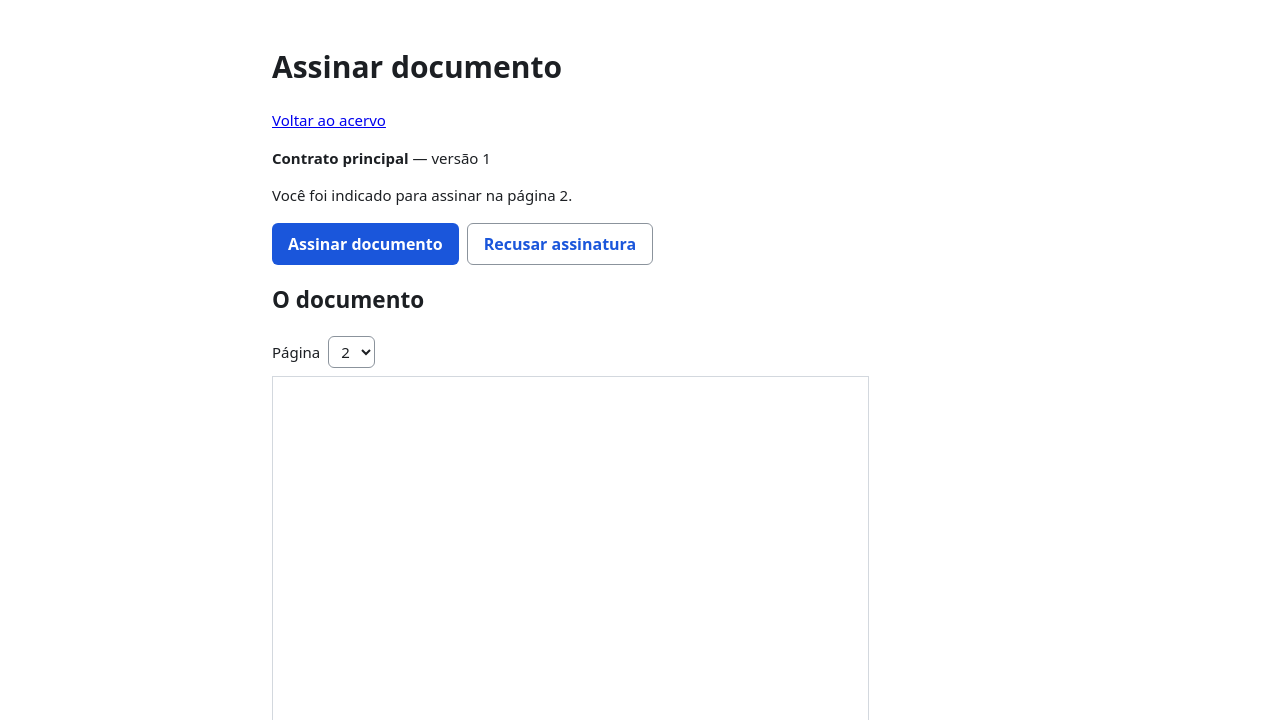
Scenario: assinar › desabilita o confirmar durante o envio, impedindo assinatura duplicada
Click the button "Assinar documento" at (365, 244), box [272,223,459,265]
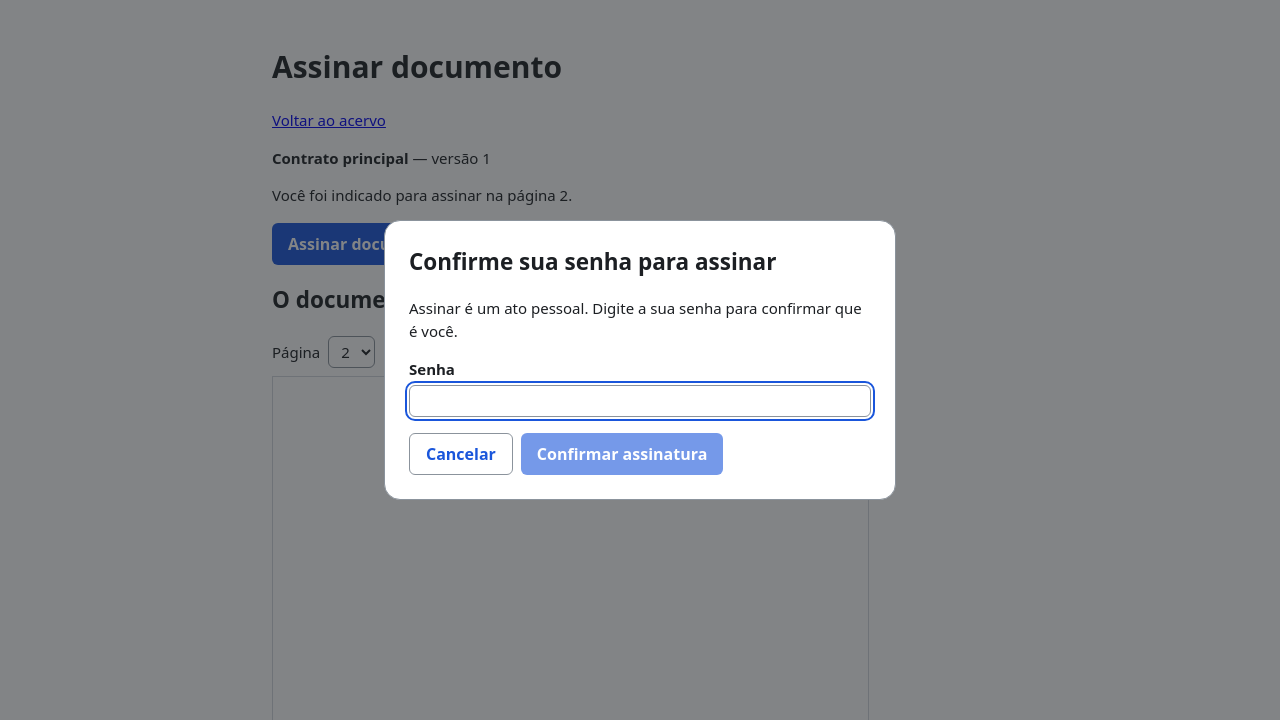
Type "s3cret-pass" into the password field labelled "Senha" at (640, 401), box [409,385,871,417]
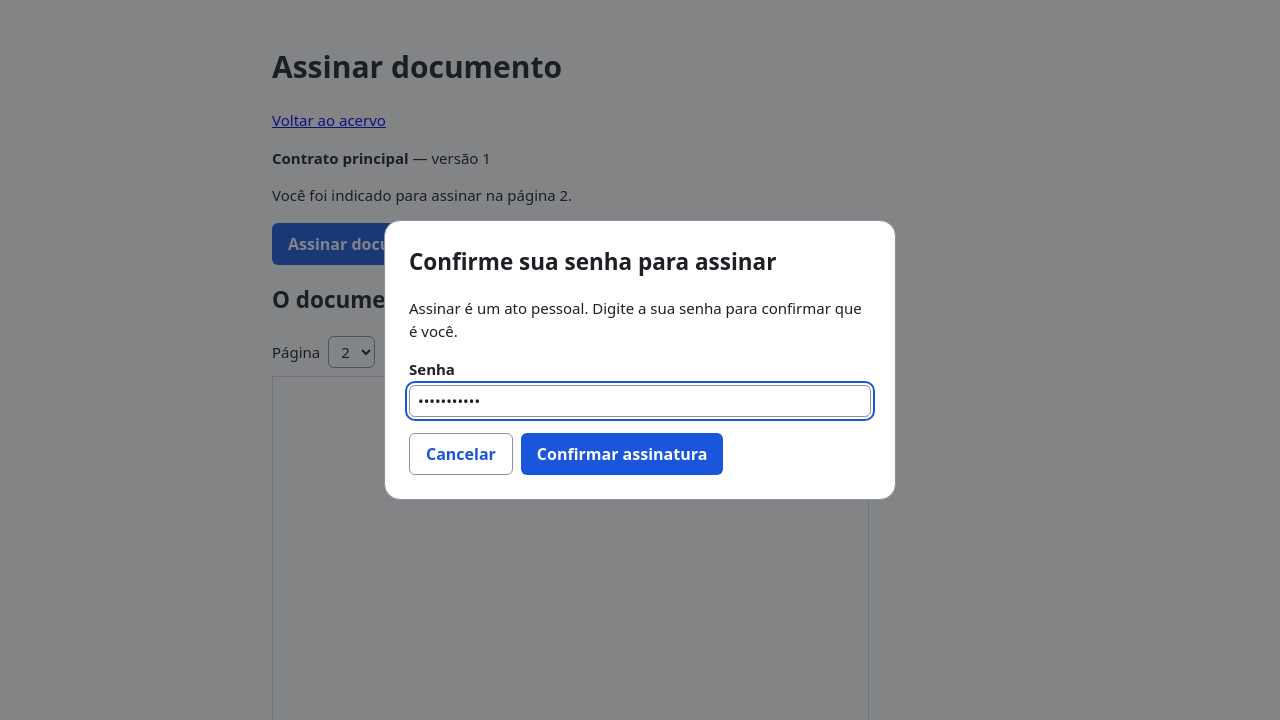
Click the button "Confirmar assinatura" at (622, 454), box [521,433,723,475]
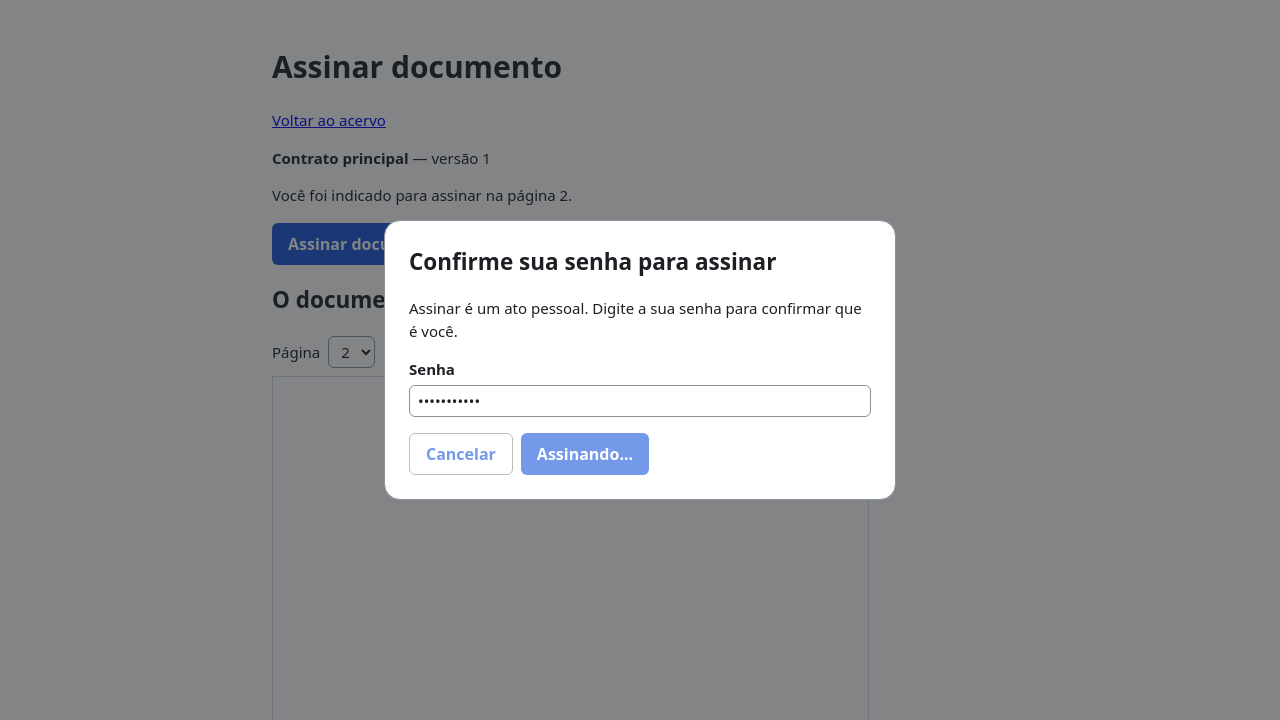
Expected: the button "Assinando..." is disabled, [521,433,649,475]
